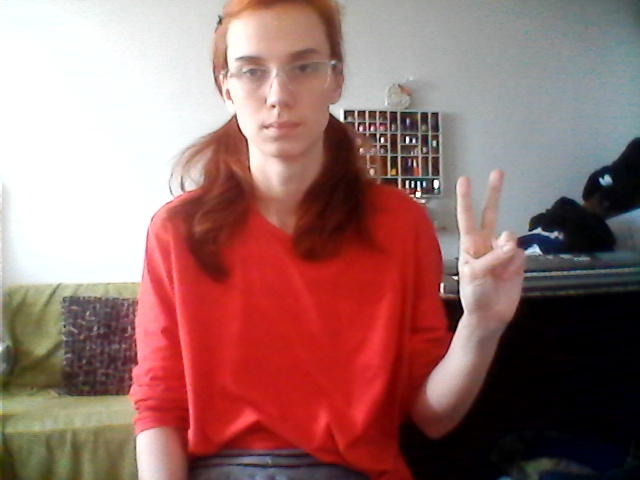v: (438, 166, 537, 336)
